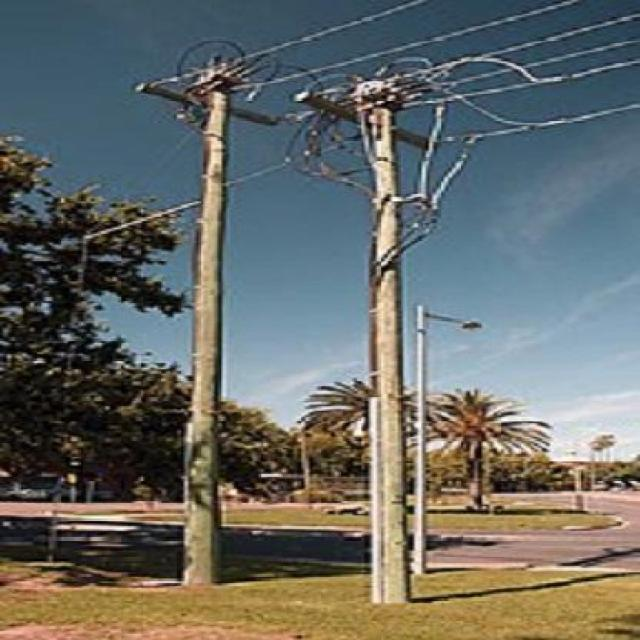light_pole: (326, 50, 435, 616), (165, 61, 262, 608)
